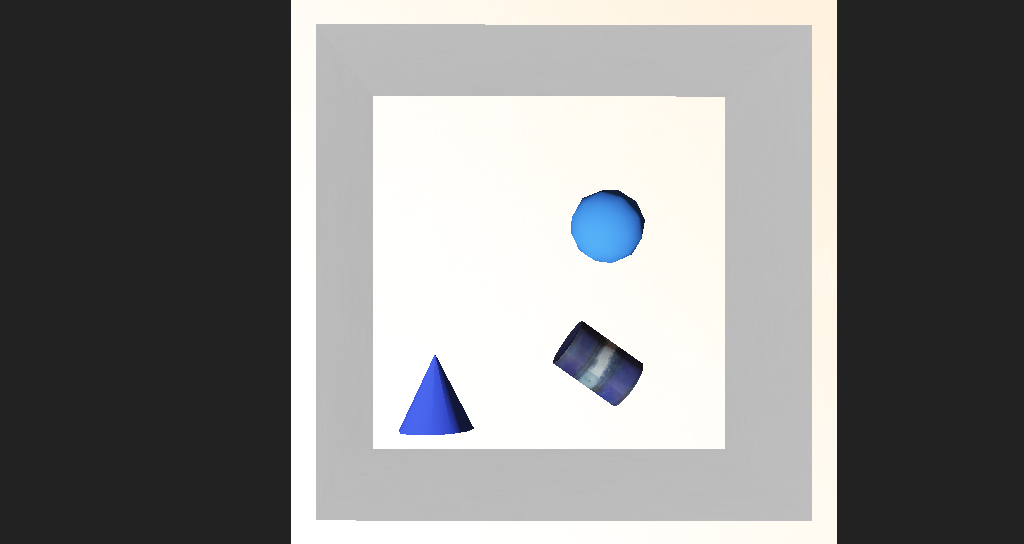cone: (505, 298, 586, 351)
cylinder: (371, 310, 438, 367)
sphere: (519, 222, 586, 265)
